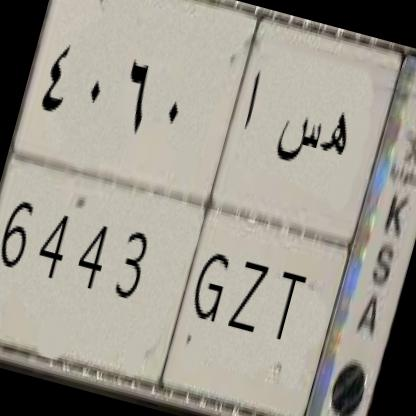english: (0, 145, 358, 412)
